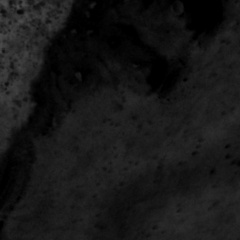Vegetation: (2, 1, 26, 119), (26, 1, 42, 70), (44, 1, 58, 31)
